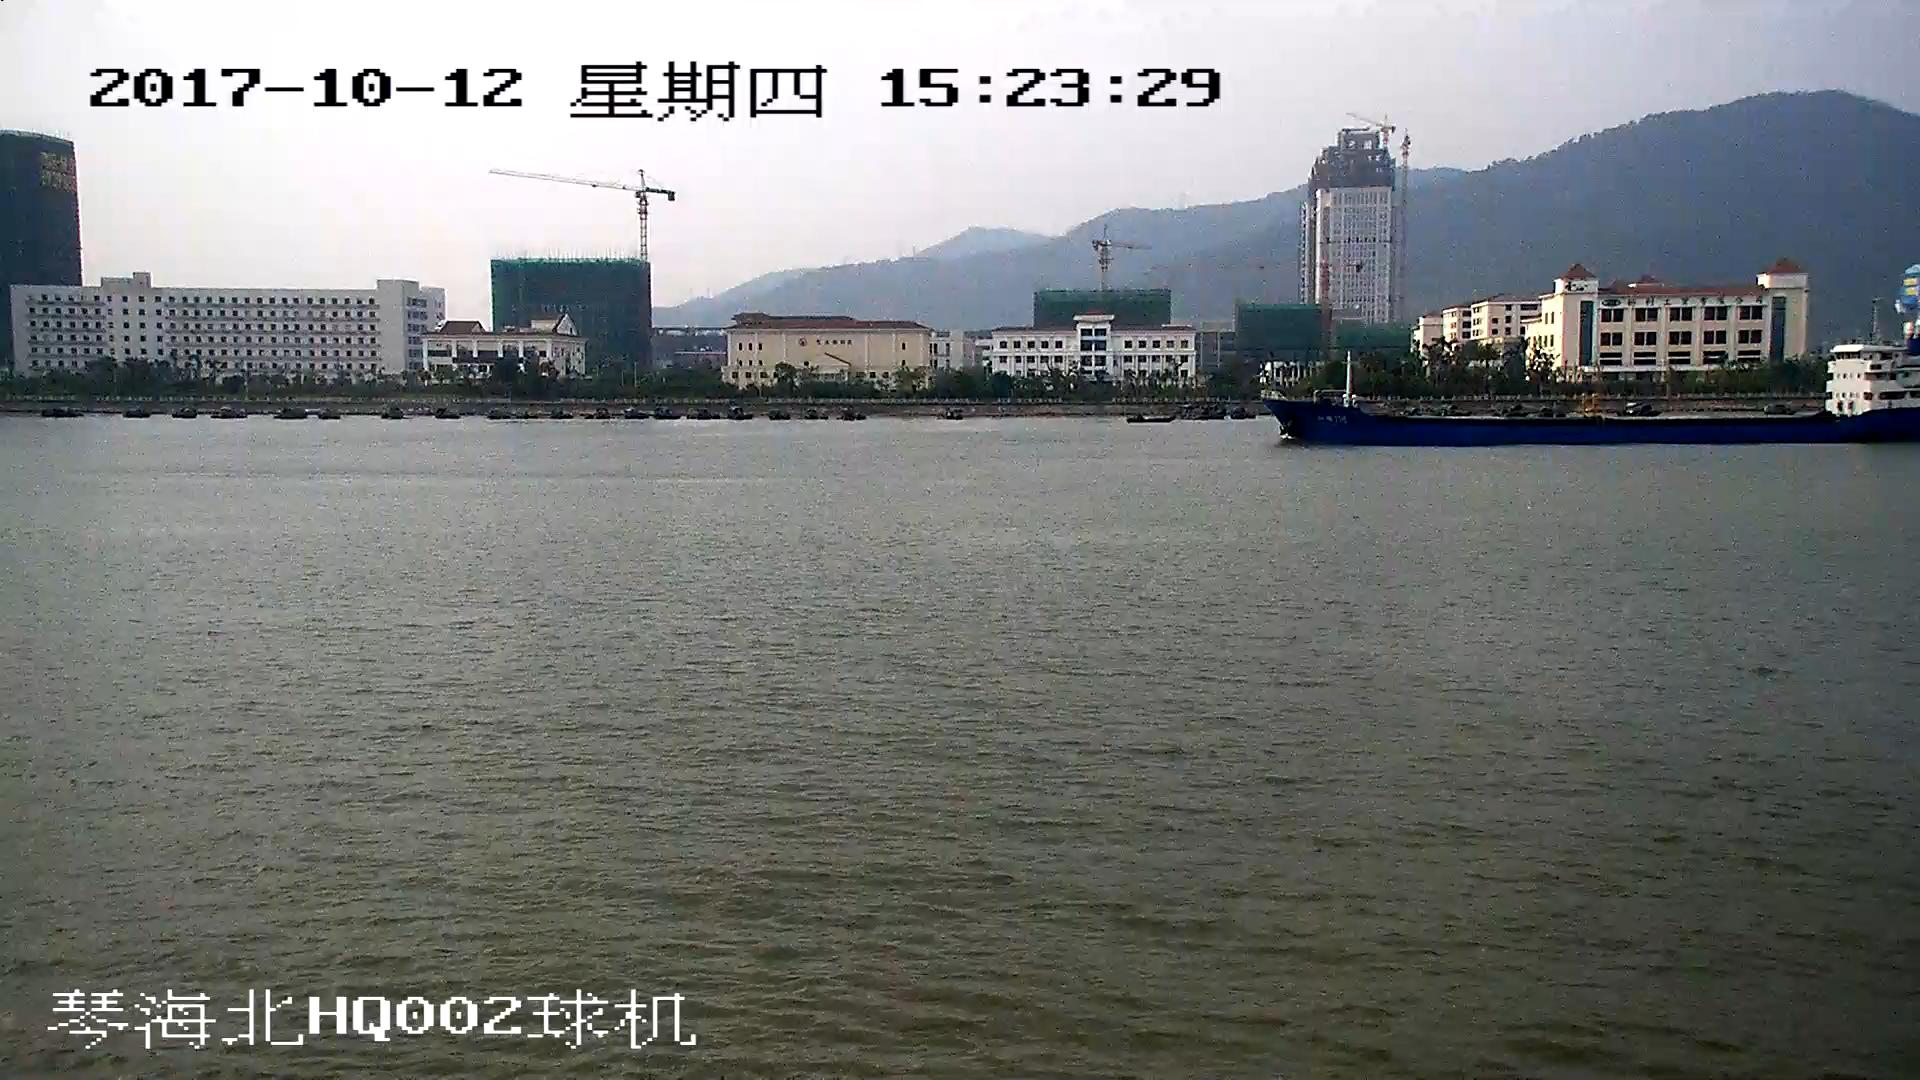general cargo ship: (1268, 349, 1920, 446)
